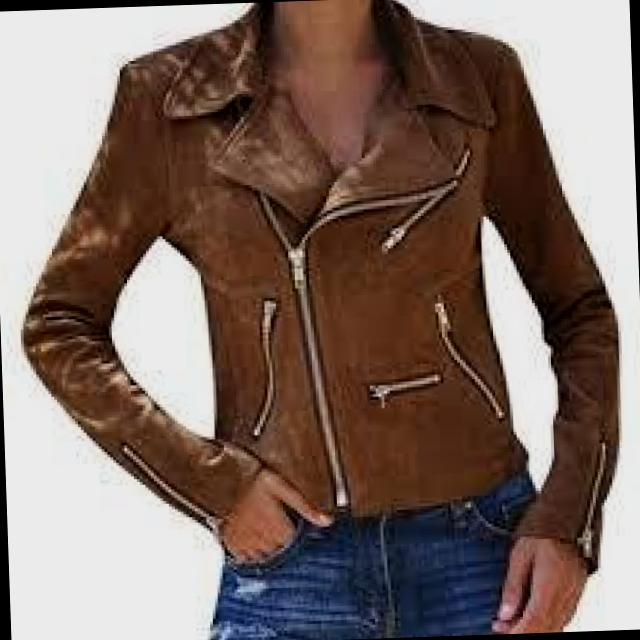jacket: (9, 4, 625, 556)
